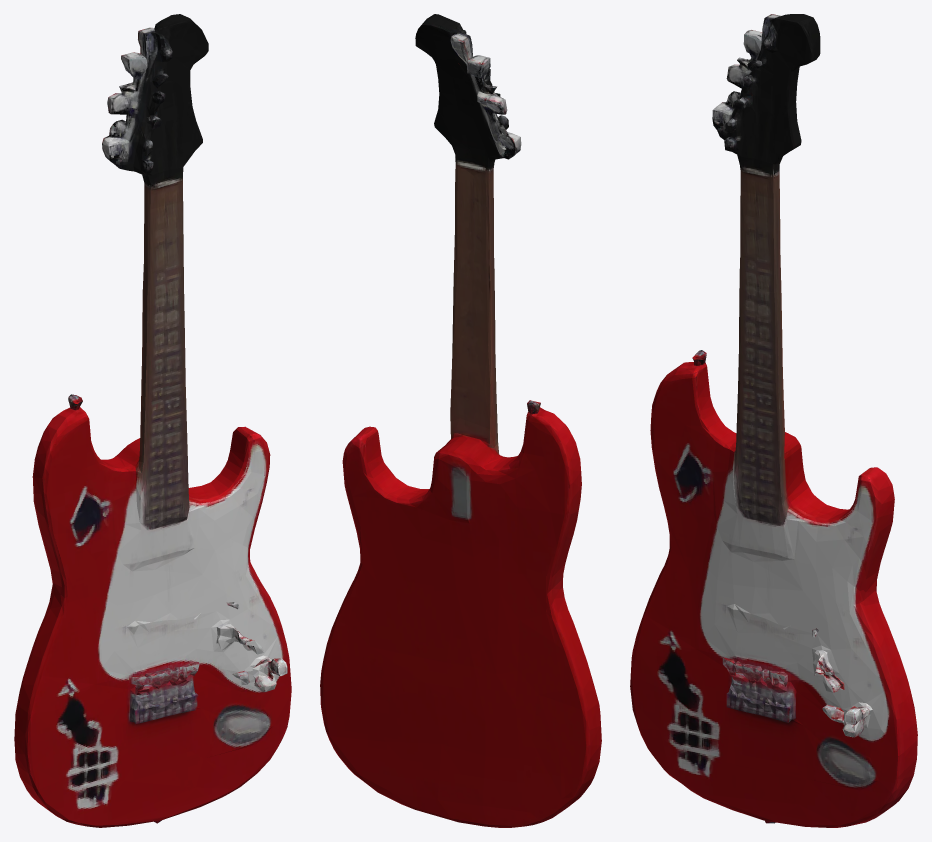
File: guitar.glb
3 views of the same model, side by side, from view 1: azimuth 30°, elevation 25°; view 2: azimuth 150°, elevation 25°; view 3: azimuth 330°, elevation 25° (orthographic). The views are drawn at different scales.
Parts seen in each view (by area): view 1: geometry_0; view 2: geometry_0; view 3: geometry_0.
Part boxes in pixels (x1,y1,x2,y2): geometry_0: [14, 14, 291, 827]; geometry_0: [320, 14, 601, 827]; geometry_0: [630, 14, 917, 827].
Bounding box in the file's own units: 0.3508 × 0.9988 × 0.0907.
1 material, 1 textured.
